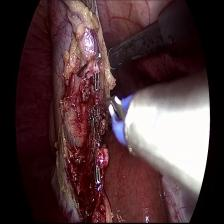Bipolar: (97, 95, 152, 147)
